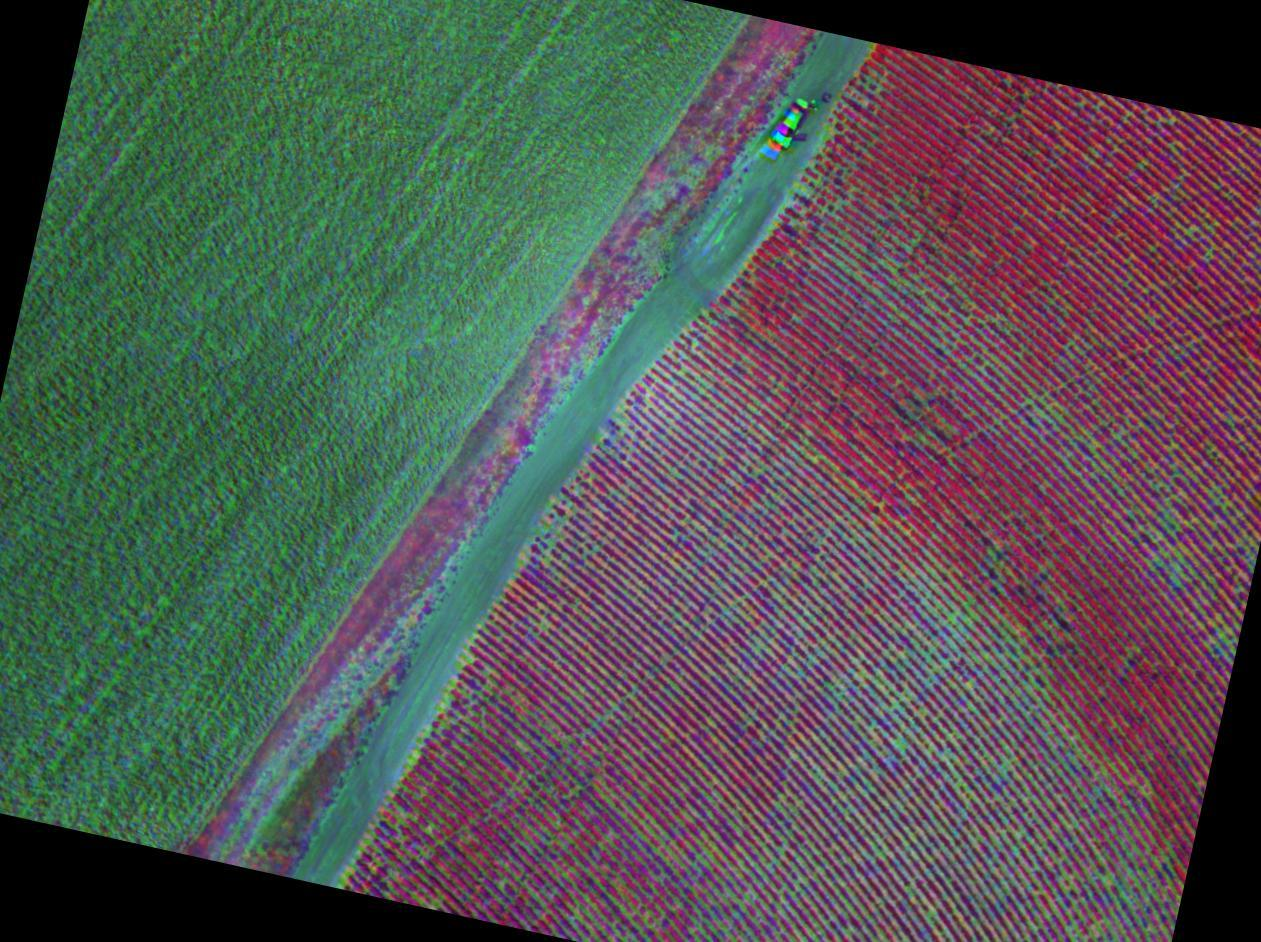dc: (897, 741, 902, 747), (727, 891, 733, 896), (1219, 633, 1224, 637), (499, 884, 503, 889), (957, 611, 961, 615), (968, 682, 972, 686), (673, 469, 676, 473), (614, 704, 617, 708), (1103, 770, 1106, 774), (775, 803, 779, 806)
